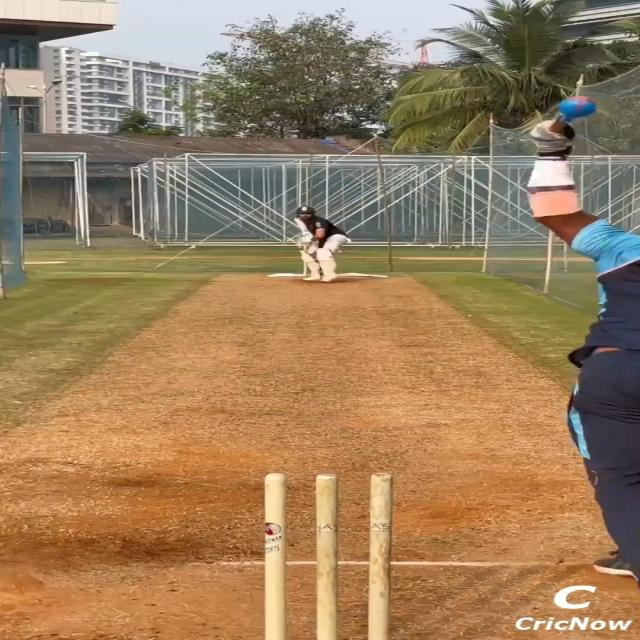stump: (258, 470, 396, 640)
